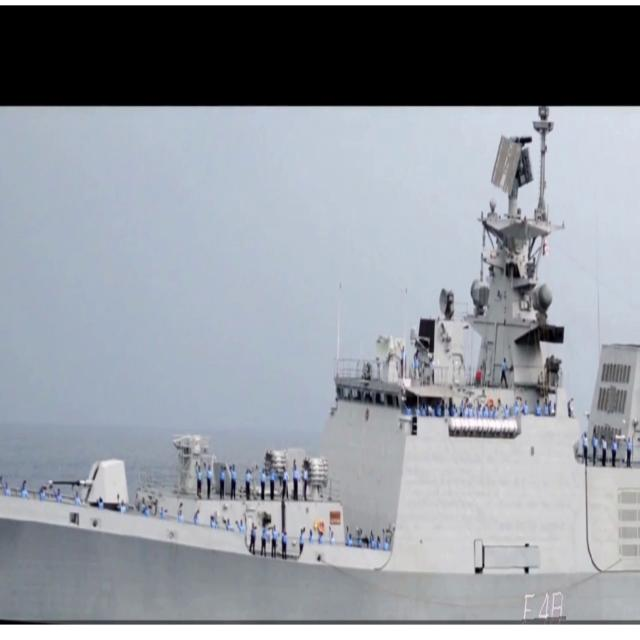OCR: (514, 587, 566, 624)
